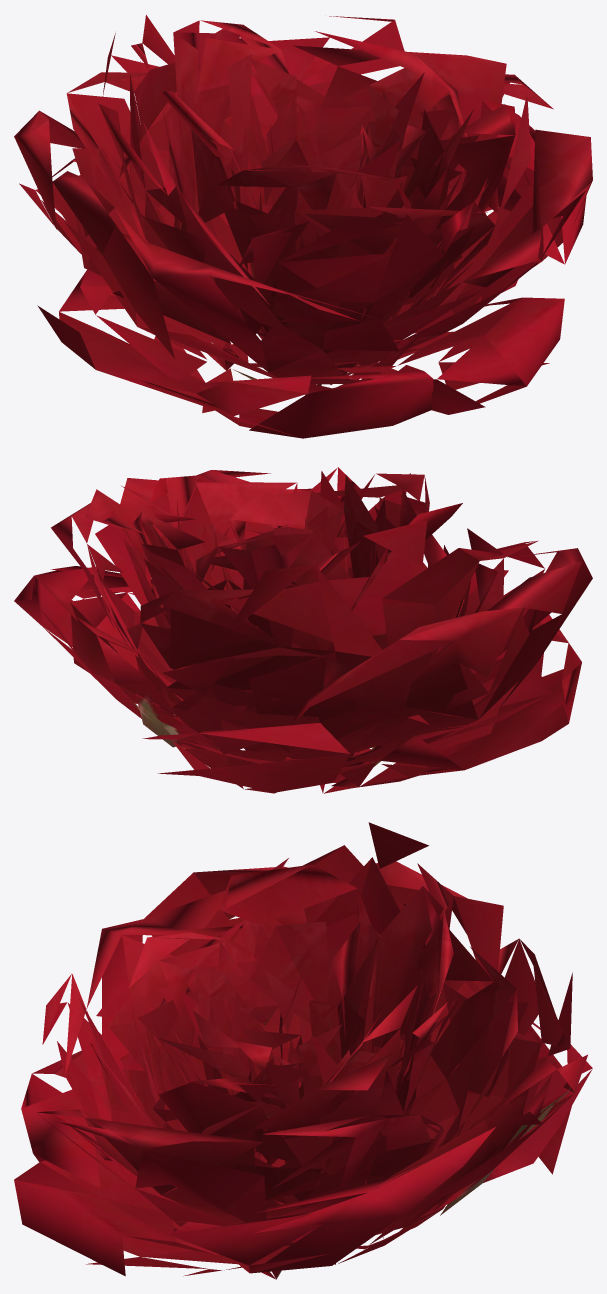
The model's file is qr-rose.glb.
The picture shows the model from 3 angles, top to bottom: view 1: azimuth 30°, elevation 25°; view 2: azimuth 150°, elevation 25°; view 3: azimuth 270°, elevation 25°; orthographic projection. The views are drawn at different scales.
Parts seen in each view (by area): view 1: mesh_node; view 2: mesh_node; view 3: mesh_node.
Part boxes in pixels (x1,y1,x2,y2): mesh_node: (14,15,592,438); mesh_node: (14,467,592,793); mesh_node: (14,822,592,1279).
Size of the model in its own units: 2 by 1.33 by 1.9.
Materials: 1 (1 with a texture image).
